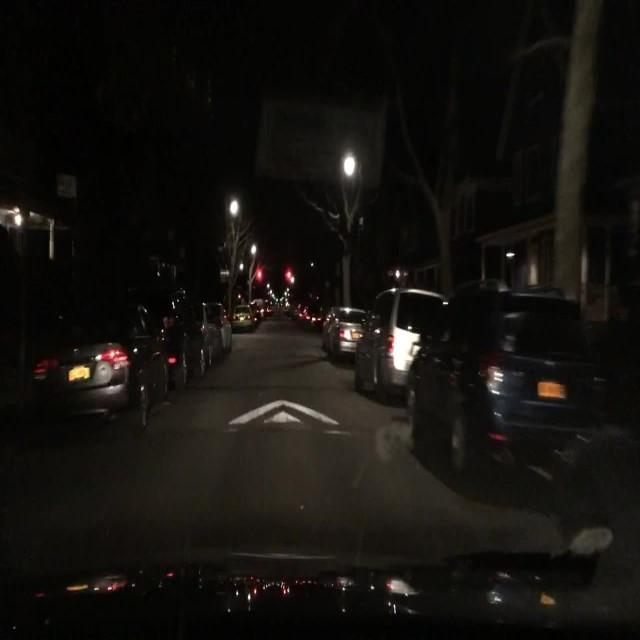normal: (401, 293, 609, 491), (30, 305, 176, 443), (354, 288, 452, 405), (322, 306, 372, 365), (199, 301, 234, 366), (232, 305, 258, 332)
